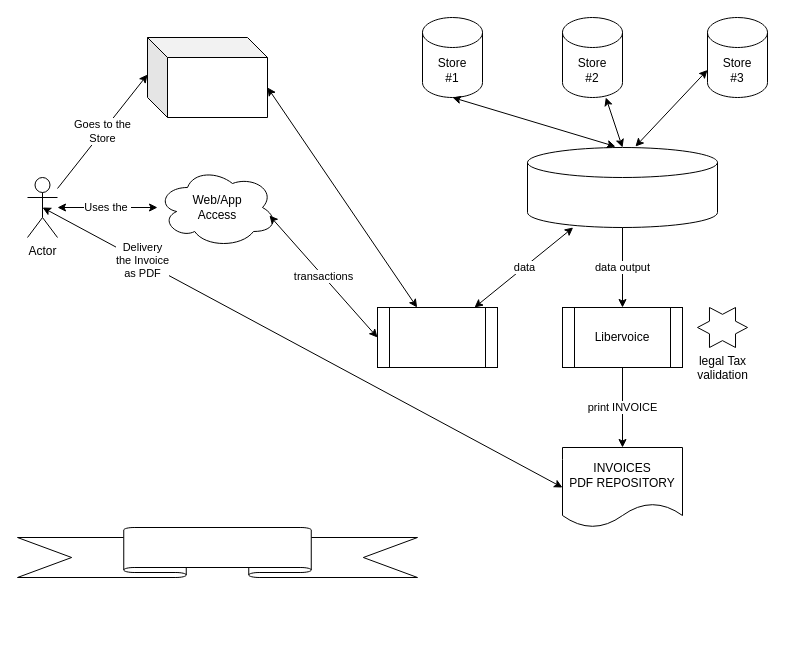
This 785x661 diagram has some shape labels left out. Each missing label, with the centre of its shape:
DATA ETL ORCHESTRATION: the point at 622,187
Ifyshop Platform: the point at 437,337
Physical Store: the point at 207,77
Skoach Challenge: the point at 217,552
